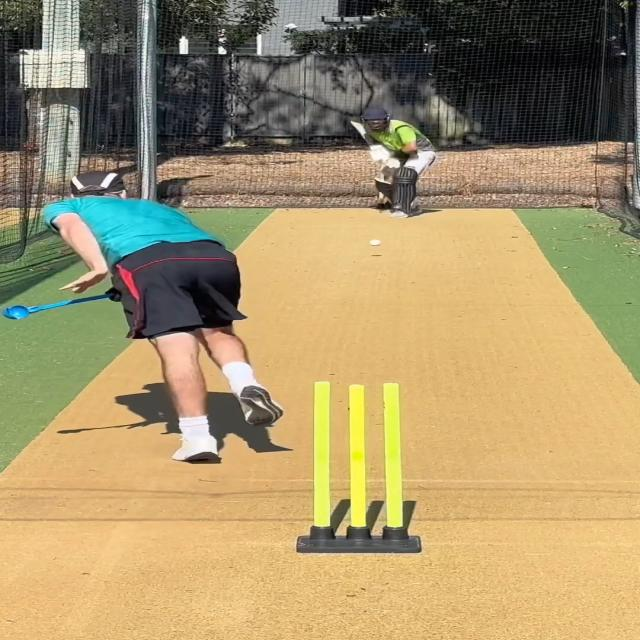ball: (369, 238, 382, 247)
stump: (294, 379, 423, 554)
